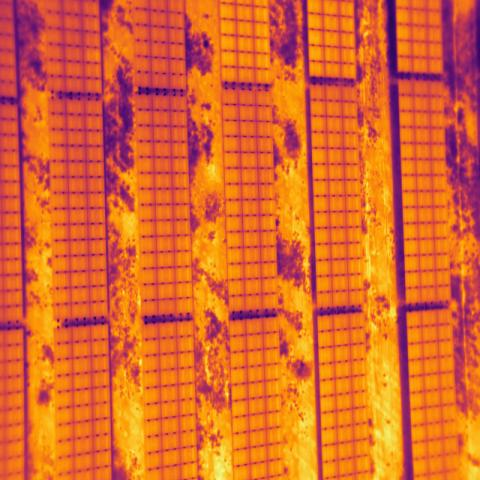fault: (83, 46, 102, 64)
